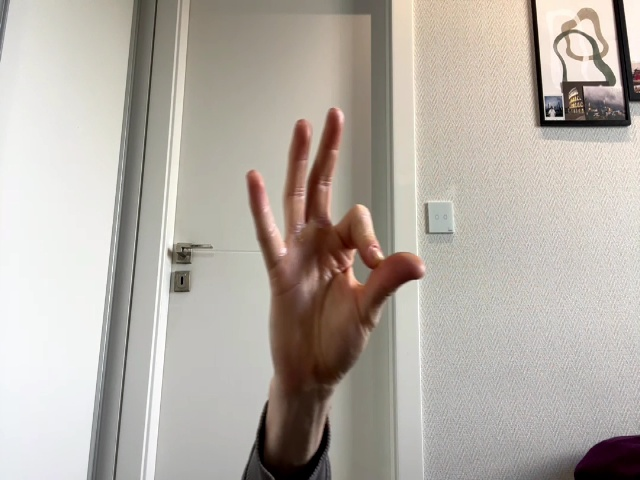S: (247, 108, 425, 379)
